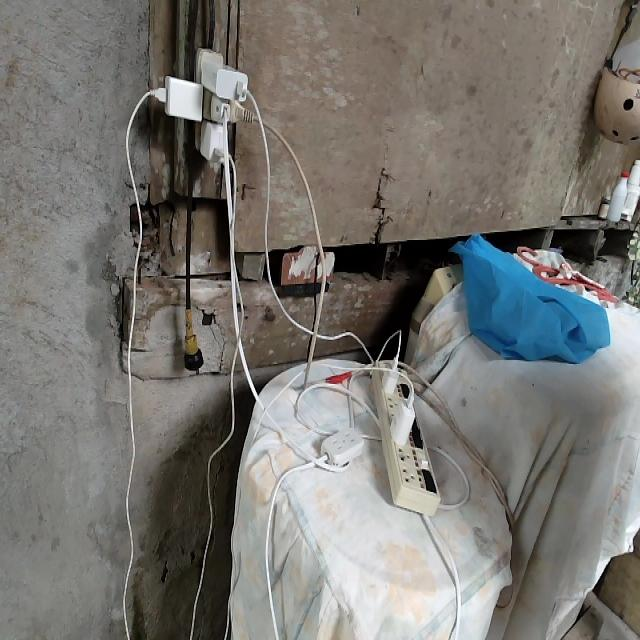-: (154, 46, 254, 166)
